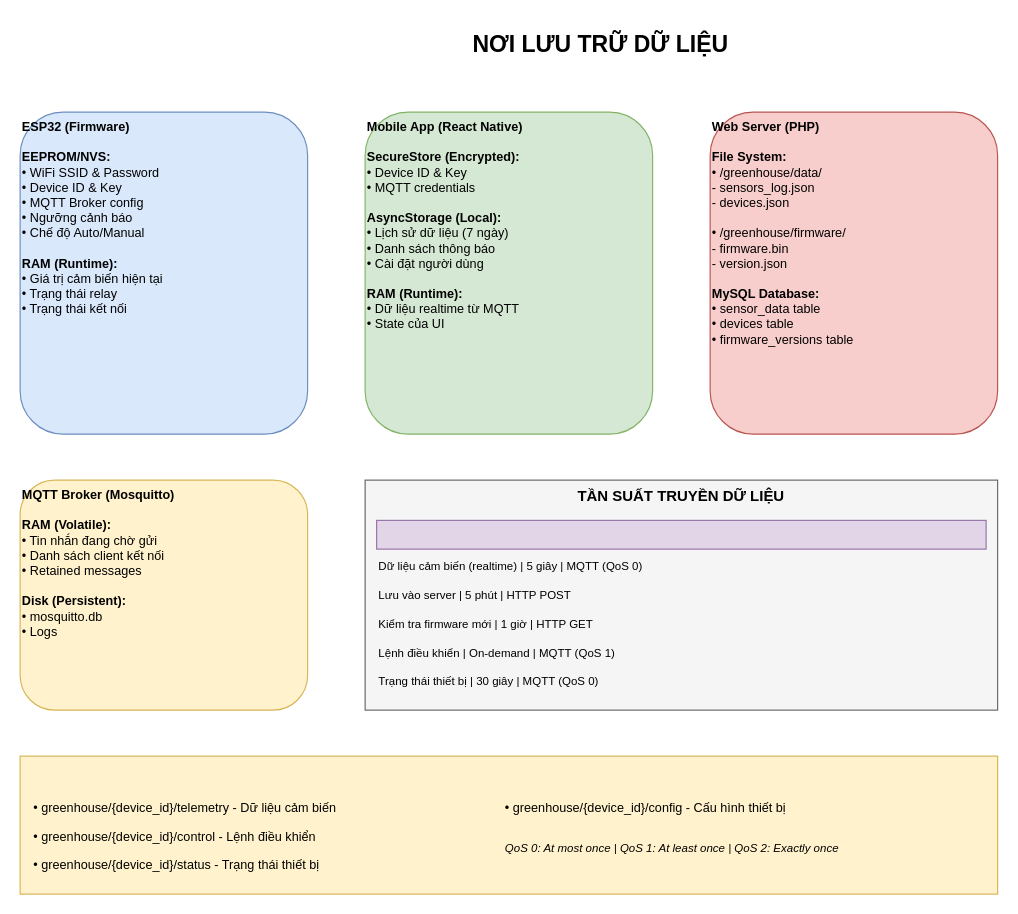
This 1018x914 diagram has some shape labels left out. Each missing label, with the box of its shape:
Loại dữ liệu | Tần suất | Giao thức: (375, 519, 986, 549)
MQTT TOPICS: (19, 755, 998, 894)
